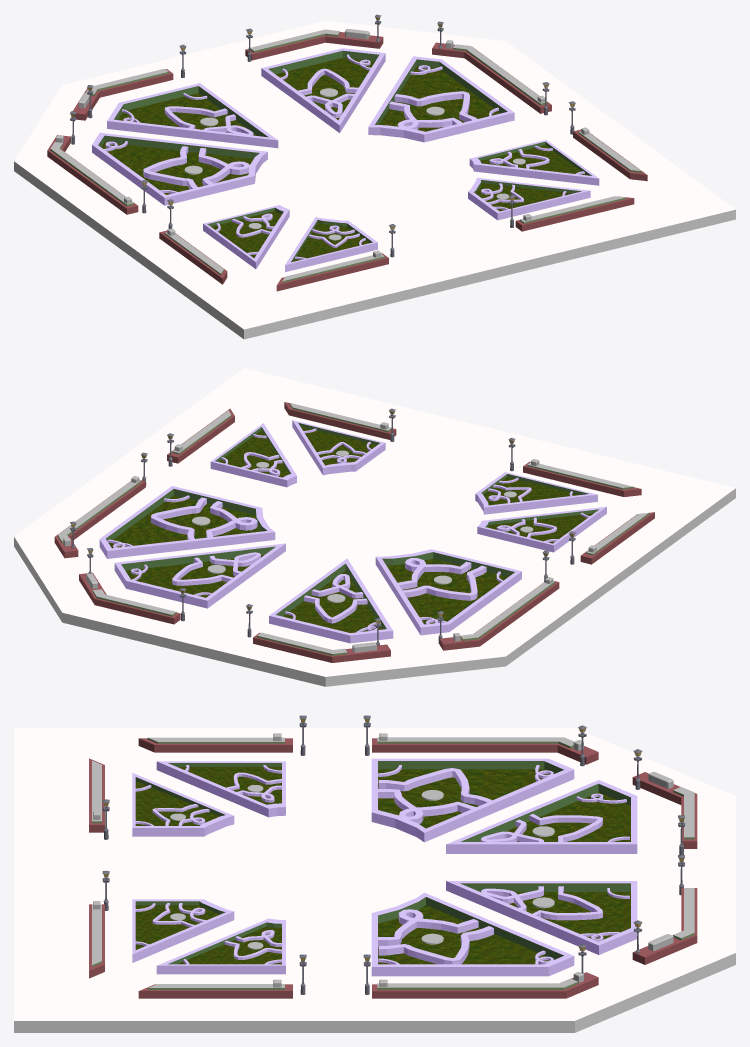
The model's file is proba.fbx.
3 renders of one model, top to bottom at view 1: azimuth 30°, elevation 25°; view 2: azimuth 150°, elevation 25°; view 3: azimuth 270°, elevation 25°, orthographic. The views are drawn at different scales.
Visible parts, largest first — view 1: Cube; view 2: Cube; view 3: Cube.
Boxes of the visible parts, left/top/right/bottom form: Cube: left=14, top=14, right=735, bottom=339; Cube: left=14, top=368, right=735, bottom=686; Cube: left=14, top=715, right=735, bottom=1032.
Size of the model in its own units: 3773 by 313 by 3934.
